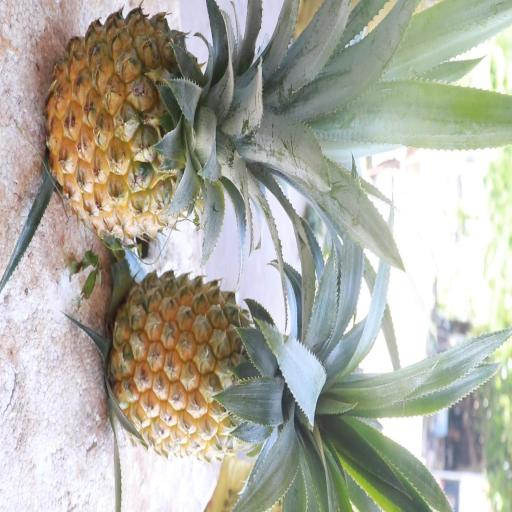Pineapple - v8 v1: (41, 5, 292, 251), (106, 261, 346, 468)
